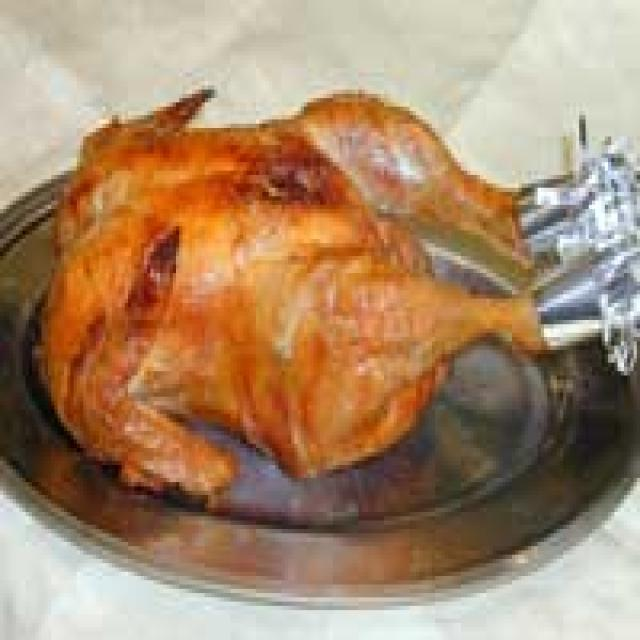Chicken: (44, 96, 534, 510)
